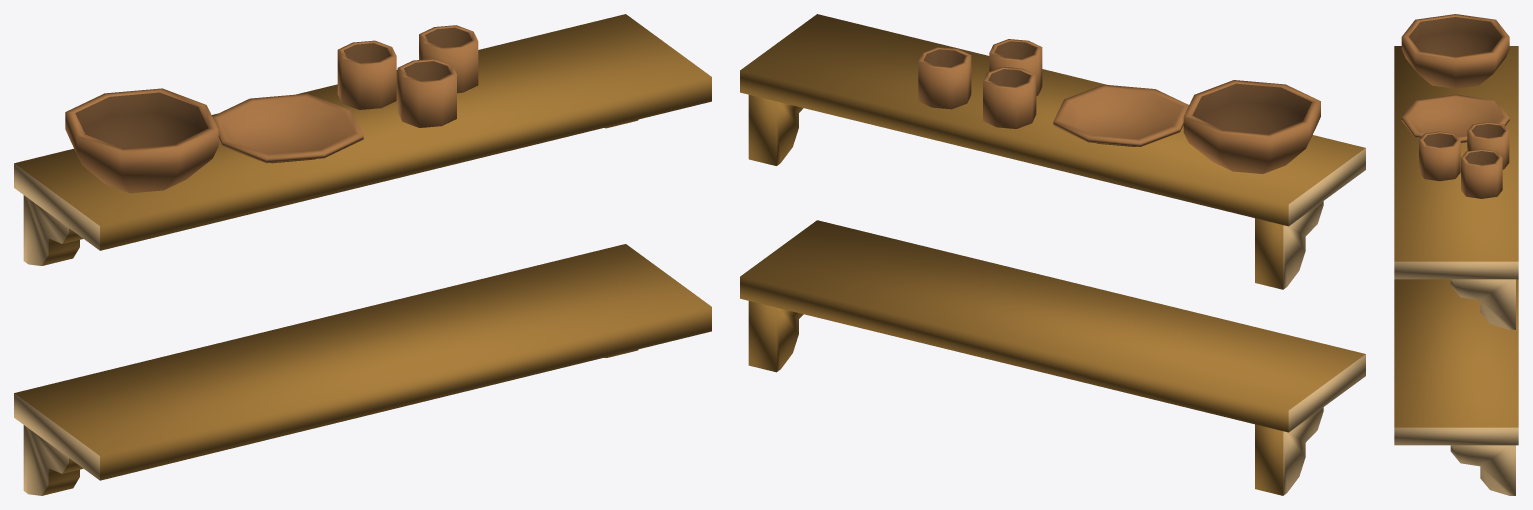
Rendered from shelves.fbx.
The picture shows the model from 3 angles, left to right: view 1: azimuth 30°, elevation 25°; view 2: azimuth 150°, elevation 25°; view 3: azimuth 270°, elevation 25°; orthographic projection. The views are drawn at different scales.
Visible parts, largest first — view 1: Empty_Mesh; view 2: Empty_Mesh; view 3: Empty_Mesh.
Boxes of the visible parts, left/top/right/bottom form: Empty_Mesh: left=14, top=14, right=711, bottom=495; Empty_Mesh: left=740, top=14, right=1365, bottom=495; Empty_Mesh: left=1394, top=14, right=1518, bottom=495.
Bounding box in the file's own units: 7.8 × 4.66 × 1.9.
